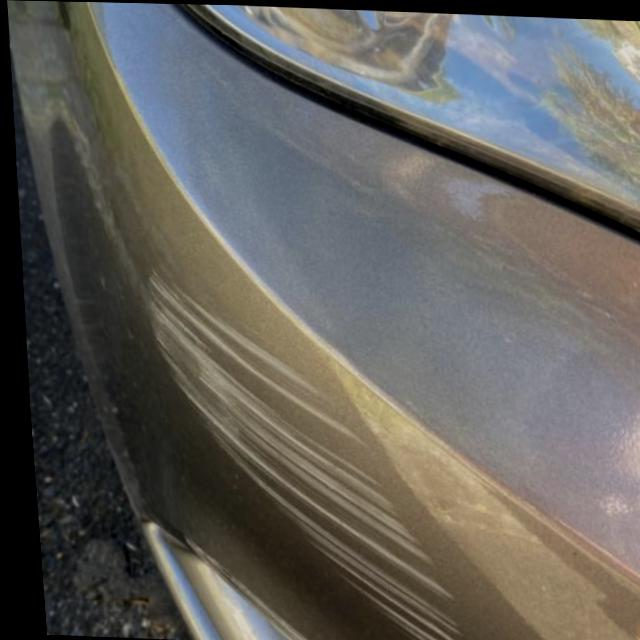Scratch: (132, 258, 471, 640)
